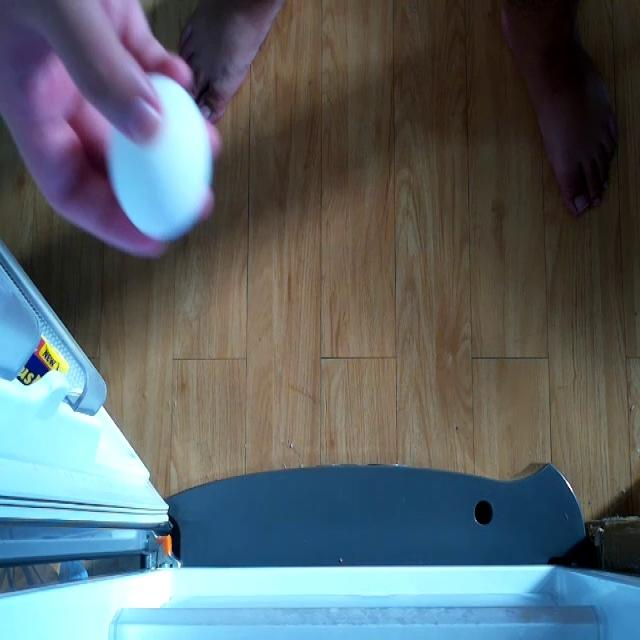egg: (107, 69, 215, 246)
